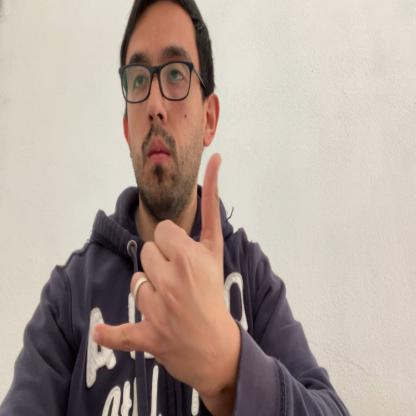Y: (92, 153, 227, 380)
